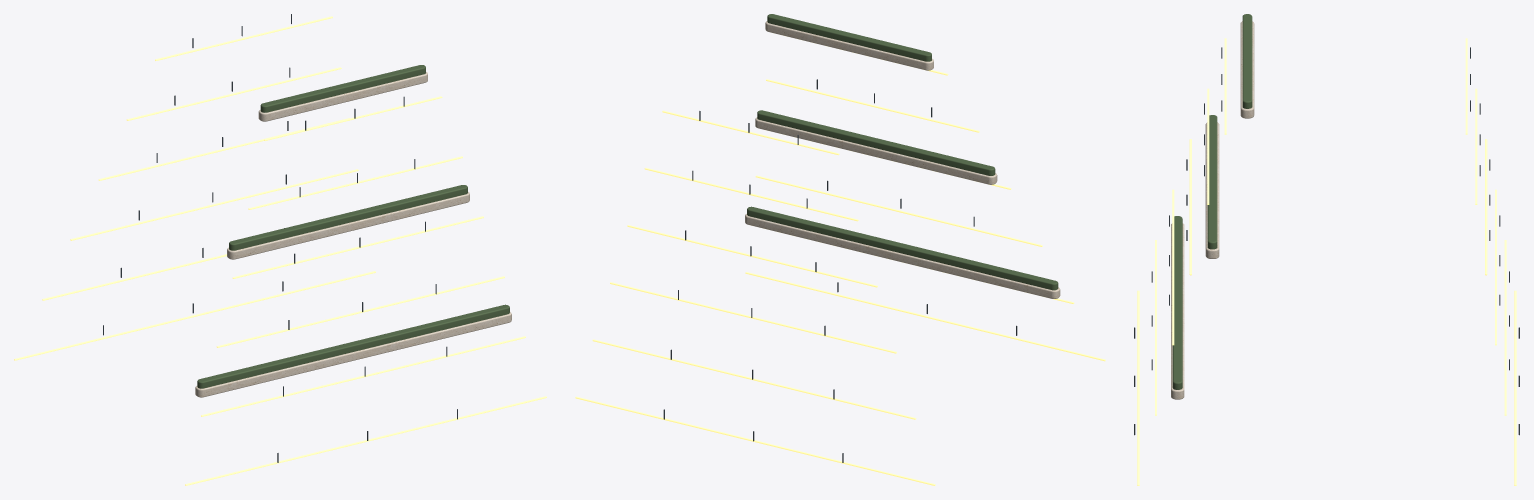
File: details.glb
3 renders of one model, left to right at view 1: azimuth 30°, elevation 25°; view 2: azimuth 150°, elevation 25°; view 3: azimuth 270°, elevation 25°, orthographic. The views are drawn at different scales.
Parts seen in each view (by area): view 1: details; view 2: details; view 3: details.
Boxes of the visible parts, left/top/right/bottom form: details: left=14, top=14, right=546, bottom=485; details: left=575, top=14, right=1105, bottom=485; details: left=1134, top=14, right=1519, bottom=485.
Size of the model in its own units: 5.4 by 4.48 by 4.53.
4 materials, 1 textured.
